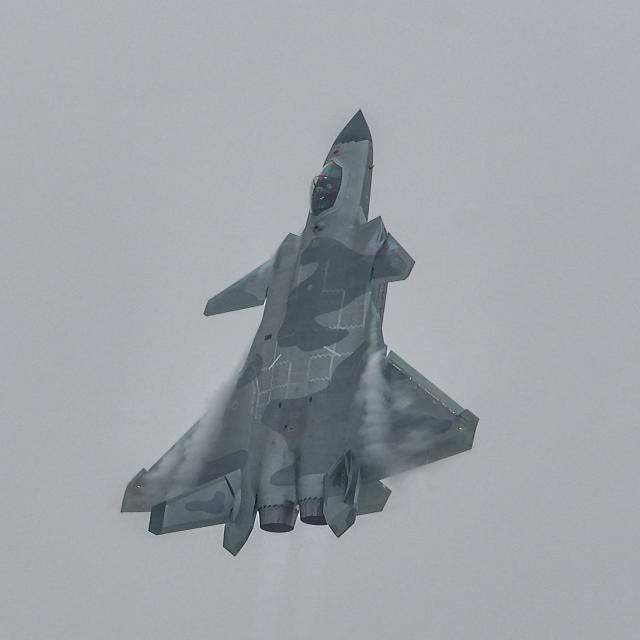MIL_Plane: (120, 106, 479, 554)
